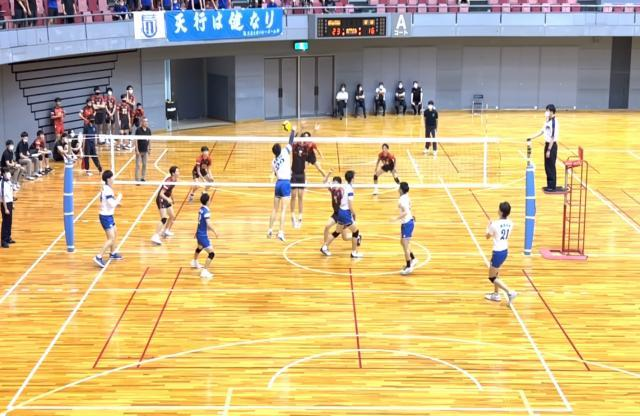spike: (263, 115, 299, 250)
